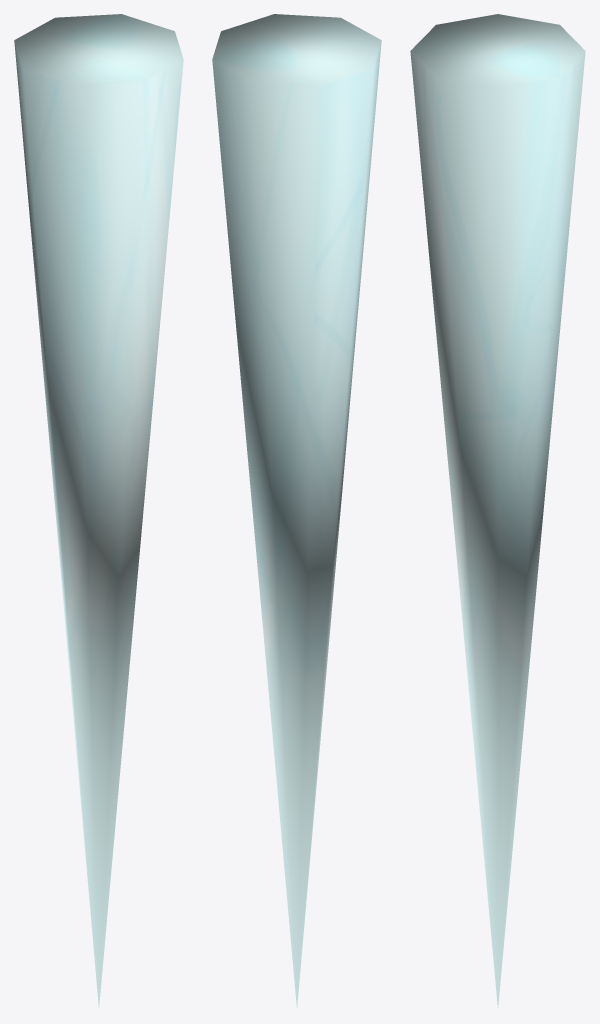
The model's file is eiszapfen1.fbx.
The picture shows the model from 3 angles, left to right: view 1: azimuth 30°, elevation 25°; view 2: azimuth 150°, elevation 25°; view 3: azimuth 270°, elevation 25°; orthographic projection.
Parts seen in each view (by area): view 1: Cone; view 2: Cone; view 3: Cone.
Part boxes in pixels (box(x1,y1,x2,y2)): Cone: box(14, 14, 183, 1007); Cone: box(212, 14, 381, 1007); Cone: box(410, 14, 585, 1007).
Bounding box in the file's own units: 32.02 × 193 × 32.02.
